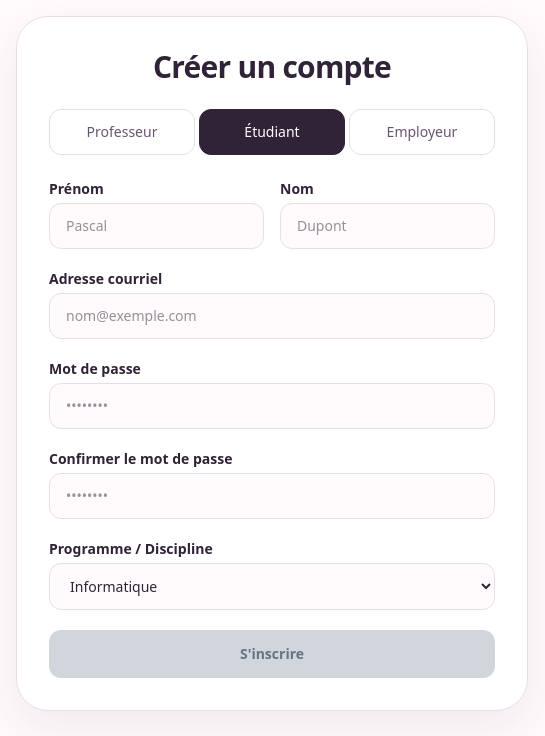
Test case: authentication forms › reveals the employer field when the employer role is selected
The image size is (545, 736).
Click the button "Employeur": click(422, 132) [349,109,495,155]
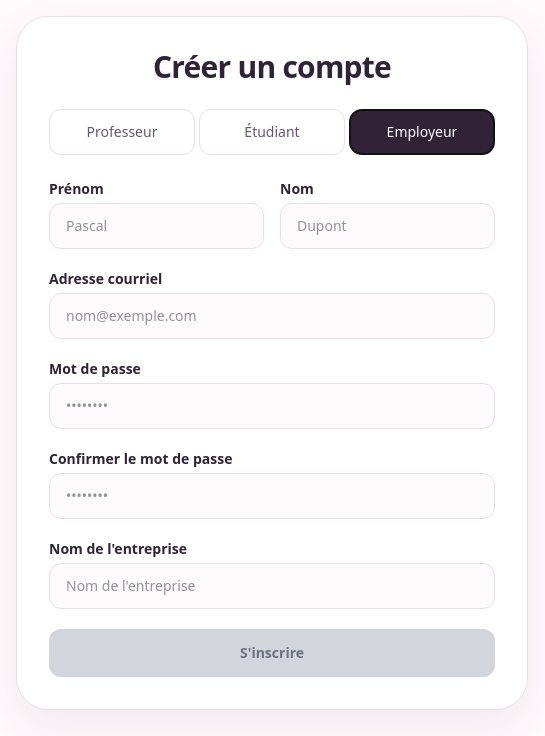
Expected: the button "S'inscrire" is disabled, [49,629,495,677]
Result: the field labelled "Nom de l'entreprise" is shown at [49,563,495,609]
